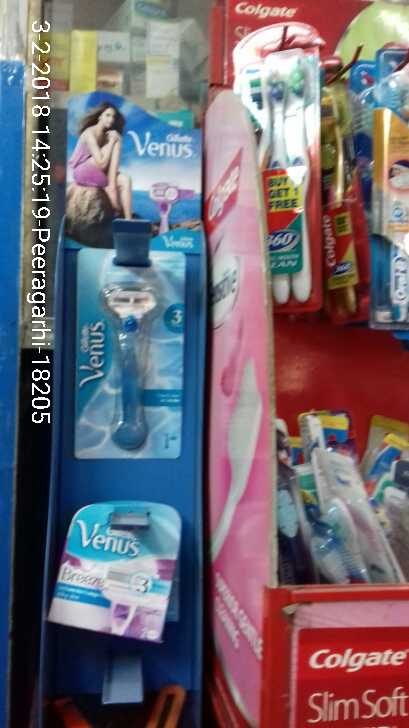venus: (74, 245, 187, 459), (53, 499, 182, 640)
